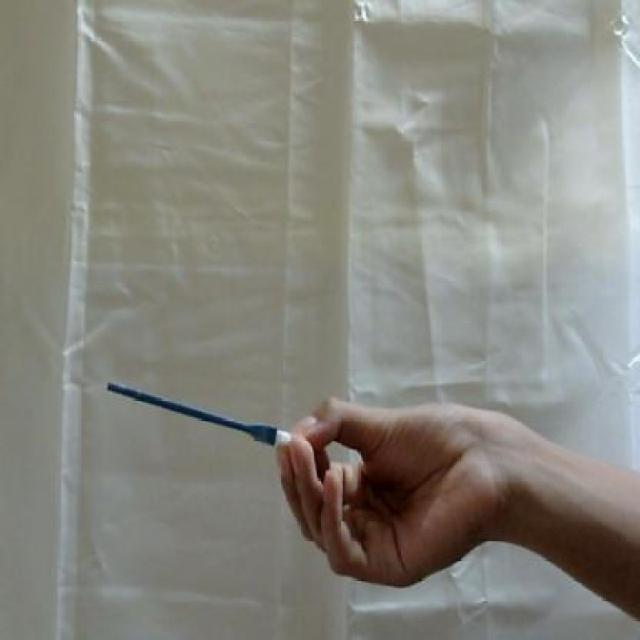Plastic: (104, 371, 296, 449)
